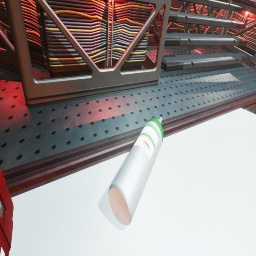0: (108, 117, 164, 226)
FirstAidBox ,: (0, 168, 14, 256)
